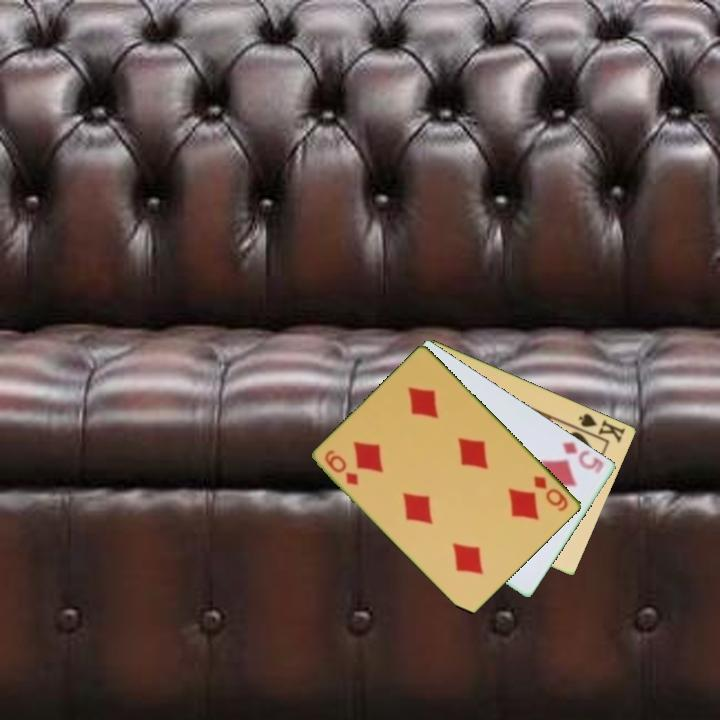5d: (559, 438, 608, 477)
6d: (530, 472, 571, 514), (321, 446, 362, 488)
Ks: (571, 410, 628, 446)
